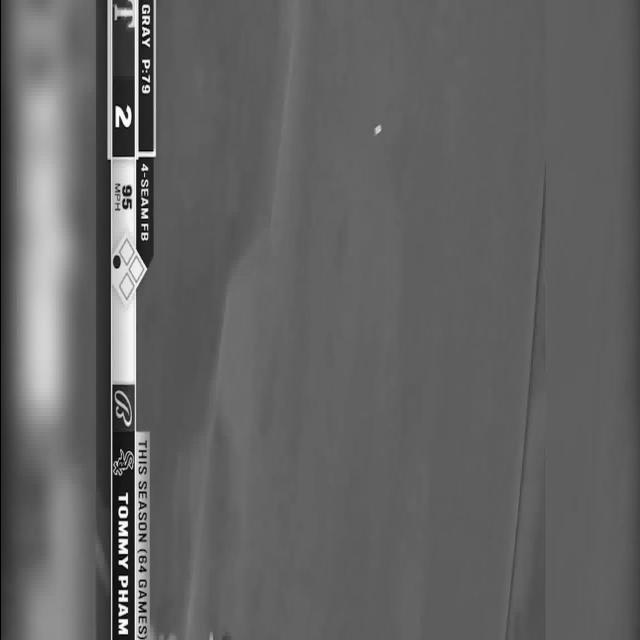baseball: (373, 124, 381, 136)
